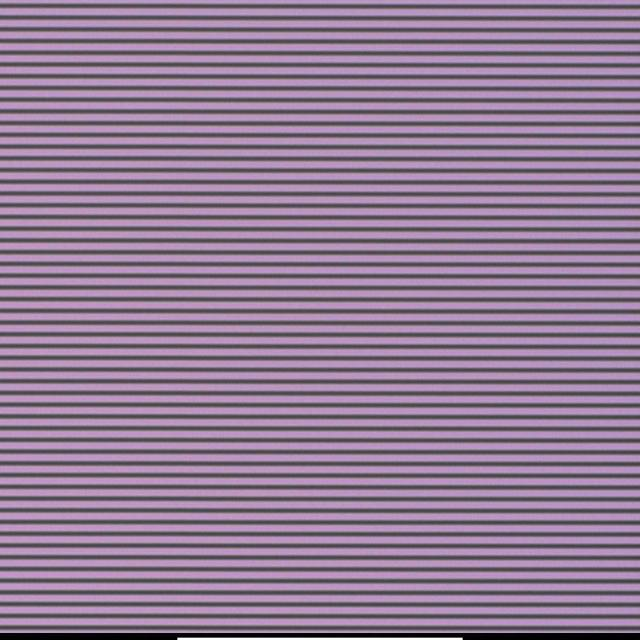nonvisual: (327, 307, 333, 315)
